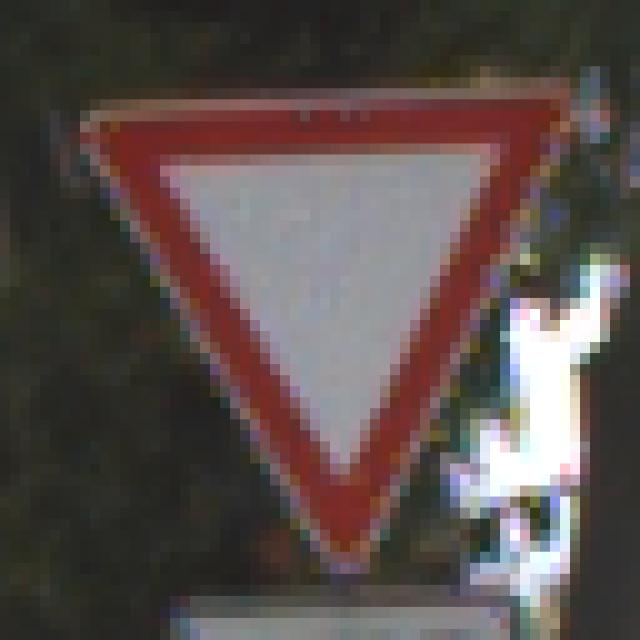Give Way: (61, 56, 591, 586)
